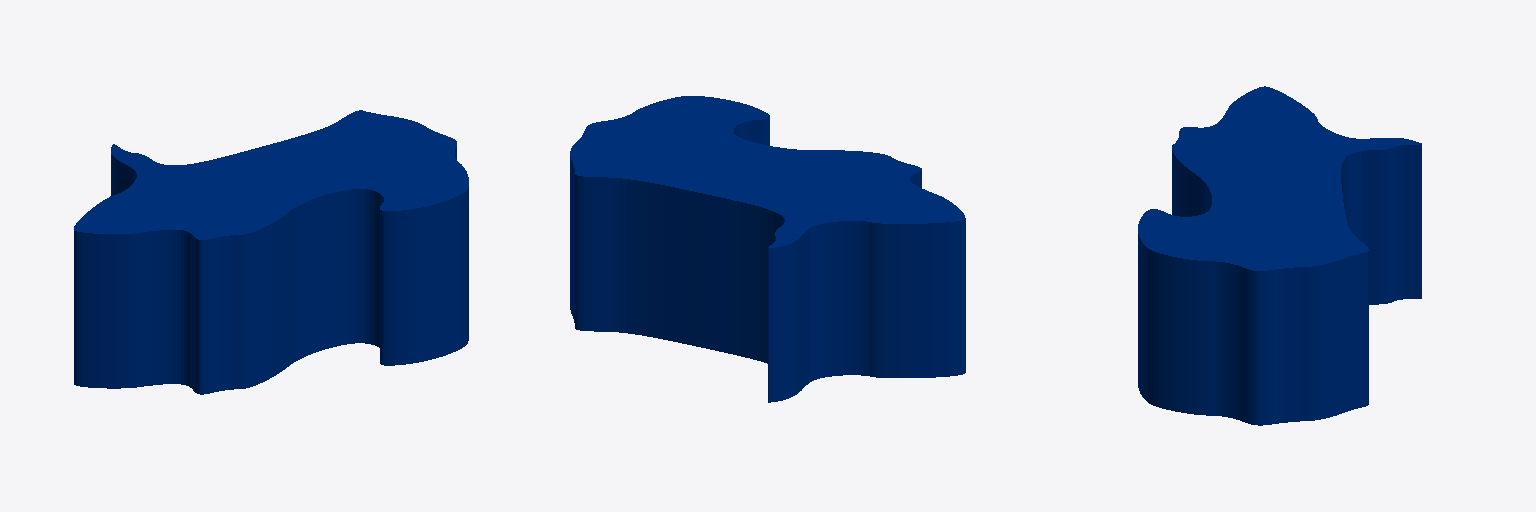
The model's file is Europe_03.obj.
3 renders of one model, left to right at view 1: azimuth 30°, elevation 25°; view 2: azimuth 150°, elevation 25°; view 3: azimuth 270°, elevation 25°, orthographic.
Visible parts, largest first — view 1: Europe_03_path4240; view 2: Europe_03_path4240; view 3: Europe_03_path4240.
Boxes of the visible parts, box(x1,y1,x2,y2) form: Europe_03_path4240: box(74, 110, 468, 394); Europe_03_path4240: box(570, 96, 965, 402); Europe_03_path4240: box(1138, 86, 1421, 425).
Size of the model in its own units: 0.2567 by 0.1 by 0.1669.